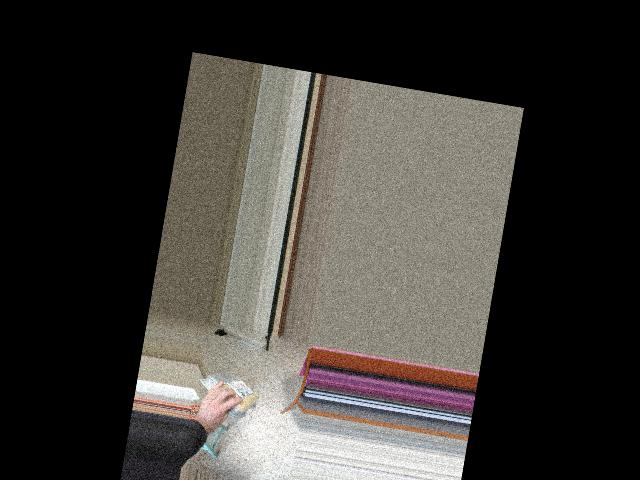cheese: (199, 374, 267, 412)
